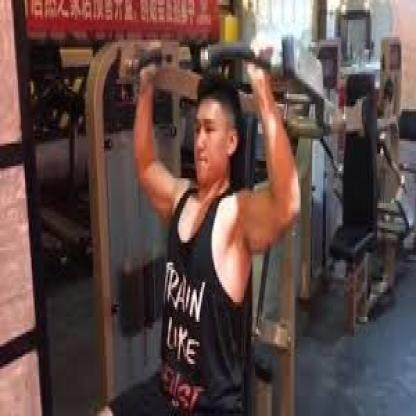shoulder press machine: (70, 1, 332, 416)
